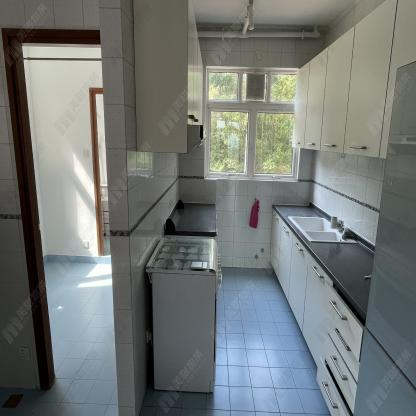Cupboard: (291, 6, 399, 159)
Exhaust Fan: (245, 72, 267, 101)
Sink: (284, 216, 368, 250)
Stove: (144, 236, 218, 276)
